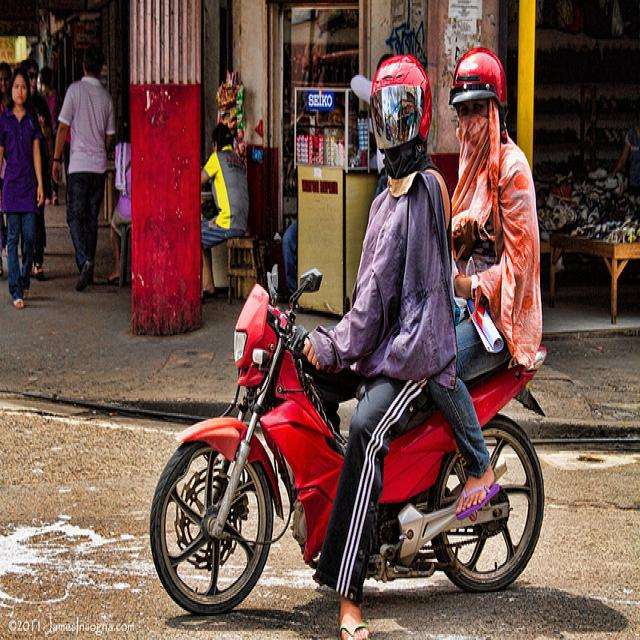motor: (146, 219, 360, 629)
